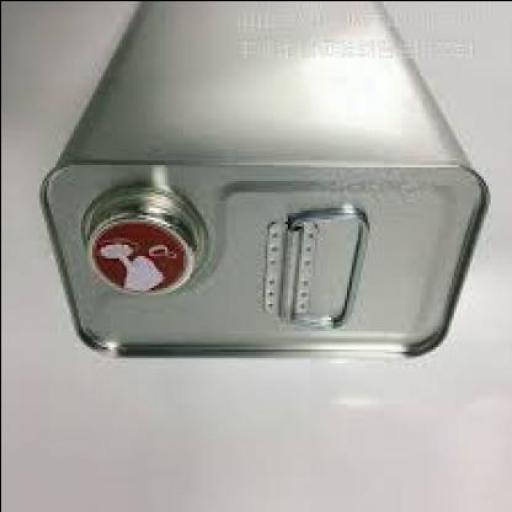metal: (34, 2, 489, 362)
